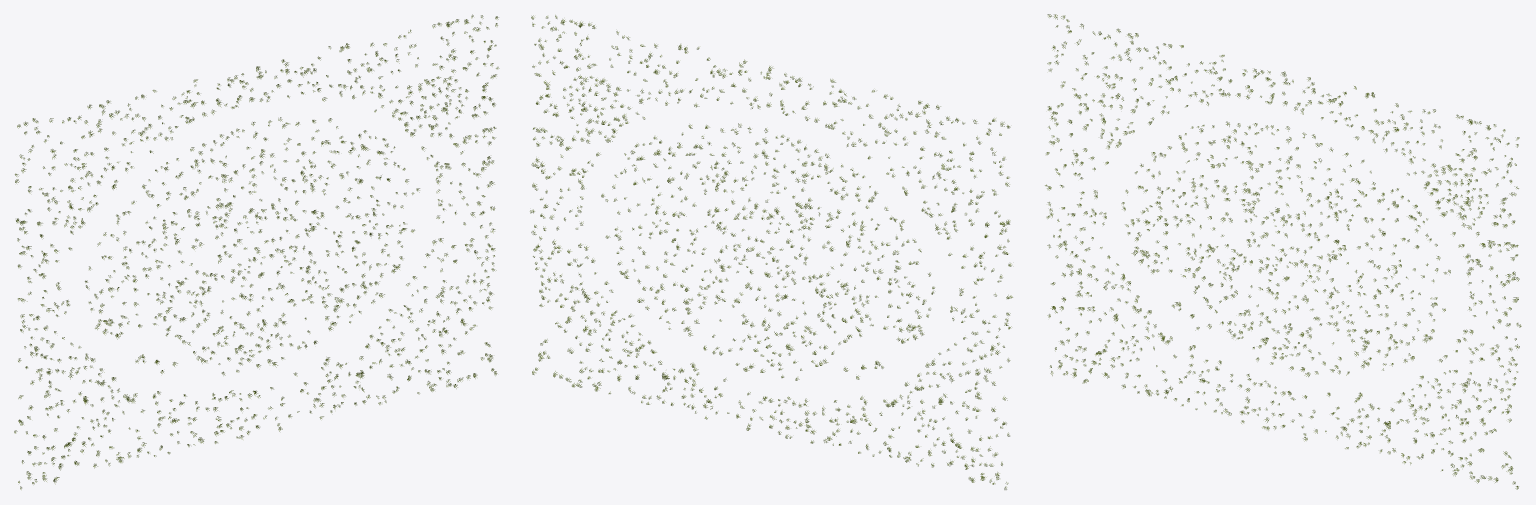
The model's file is undergrowth.obj.
3 views of the same model, side by side, from view 1: azimuth 30°, elevation 25°; view 2: azimuth 150°, elevation 25°; view 3: azimuth 330°, elevation 25° (orthographic).
Visible parts, largest first — view 1: undergrowth; view 2: undergrowth; view 3: undergrowth.
Boxes of the visible parts, <box> form: undergrowth: <box>14,14,499,489</box>; undergrowth: <box>530,15,1012,489</box>; undergrowth: <box>1045,14,1521,489</box>.
Bounding box in the file's own units: 76.75 × 56.81 × 2.52.
